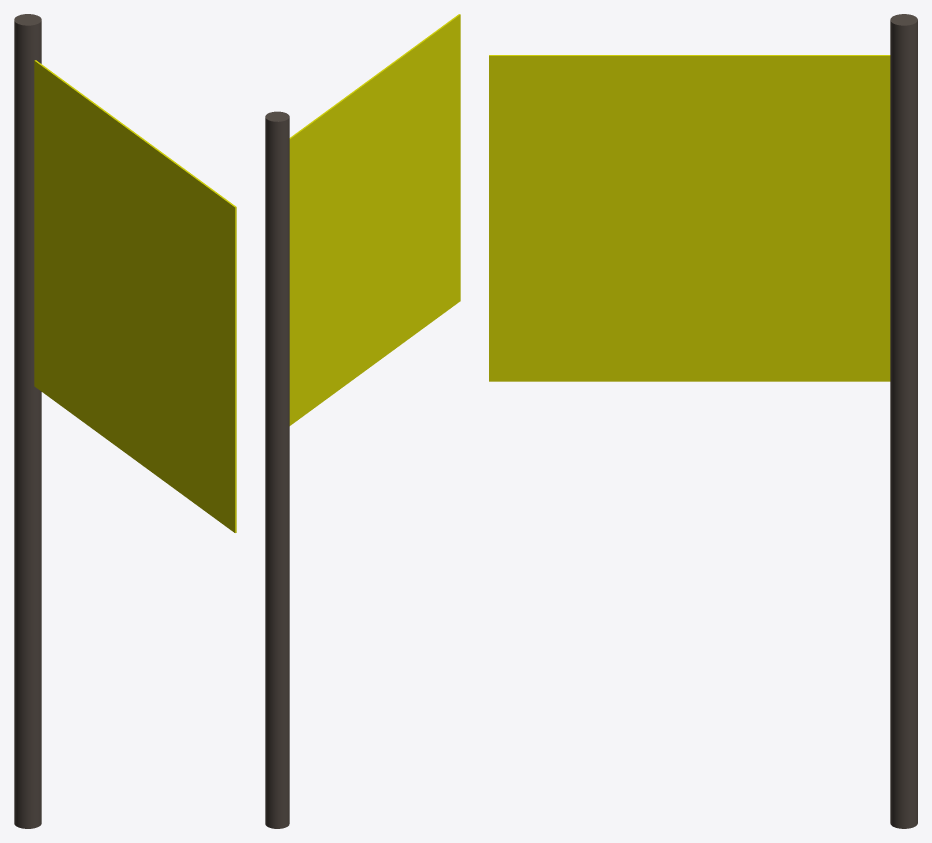
The model's file is Yellow Flag.fbx.
The picture shows the model from 3 angles, left to right: view 1: azimuth 30°, elevation 25°; view 2: azimuth 150°, elevation 25°; view 3: azimuth 270°, elevation 25°; orthographic projection. The views are drawn at different scales.
Visible parts, largest first — view 1: pPlane1, pCylinder1; view 2: pPlane1, pCylinder1; view 3: pPlane1, pCylinder1.
Part boxes in pixels (x1,y1,x2,y2): pPlane1: (34, 60, 236, 532); pCylinder1: (14, 14, 41, 828); pPlane1: (289, 14, 460, 425); pCylinder1: (265, 111, 289, 828); pPlane1: (489, 55, 890, 381); pCylinder1: (890, 14, 917, 828).
Bounding box in the file's own units: 2 × 63.94 × 30.94.
